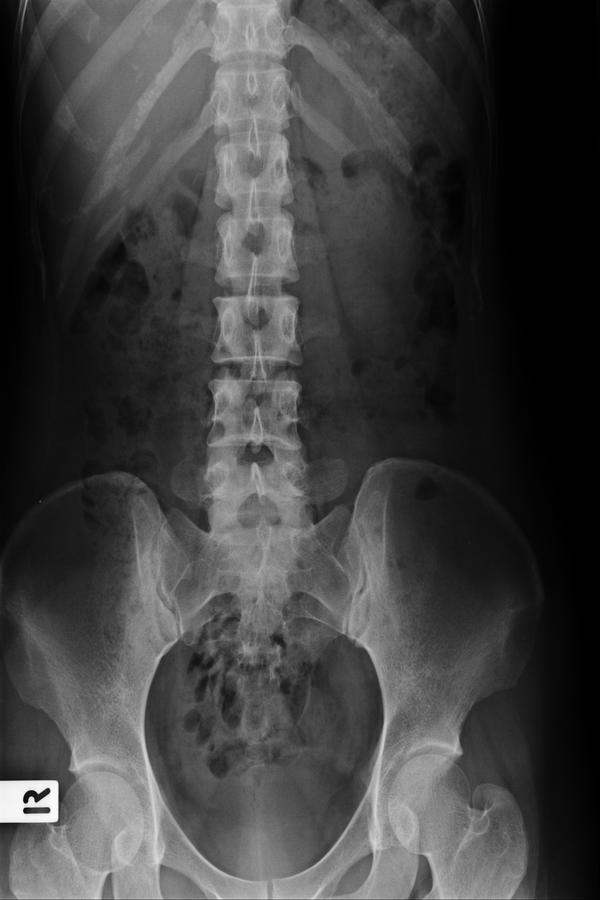not lumbar scoliosis: (196, 195, 319, 568)
